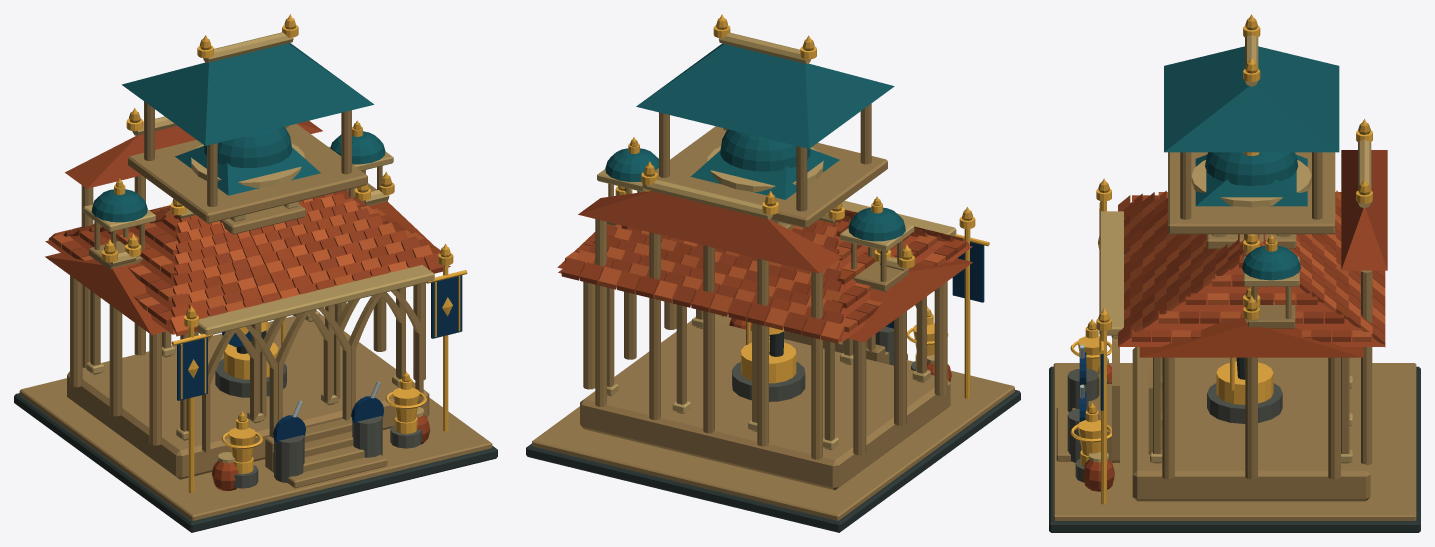
The picture shows the model from 3 angles, left to right: view 1: azimuth 30°, elevation 25°; view 2: azimuth 150°, elevation 25°; view 3: azimuth 270°, elevation 25°; orthographic projection. The views are drawn at different scales.
Visible parts, largest first — view 1: hero_hall_level9_structure, hero_hall_level9_metal; view 2: hero_hall_level9_structure, hero_hall_level9_metal; view 3: hero_hall_level9_structure, hero_hall_level9_metal.
Part boxes in pixels (x1,y1,x2,y2): hero_hall_level9_structure: (14,18,497,532); hero_hall_level9_metal: (101,14,467,493); hero_hall_level9_structure: (526,18,1020,532); hero_hall_level9_metal: (615,14,989,398); hero_hall_level9_structure: (1049,18,1420,532); hero_hall_level9_metal: (1070,14,1372,504).
Size of the model in its own units: 5.6 by 6.97 by 5.6.
